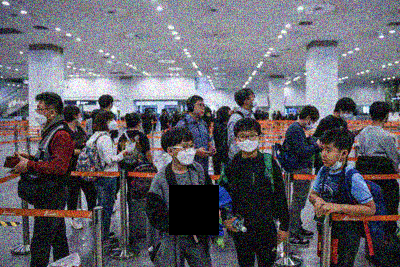mask_weared_incorrect: (322, 144, 341, 167)
with_mask: (176, 141, 197, 166), (238, 131, 260, 152), (36, 104, 49, 127), (305, 120, 319, 132), (108, 117, 118, 132), (250, 95, 259, 108), (341, 111, 354, 120), (77, 114, 84, 125)
without_mask: (194, 102, 206, 117)
